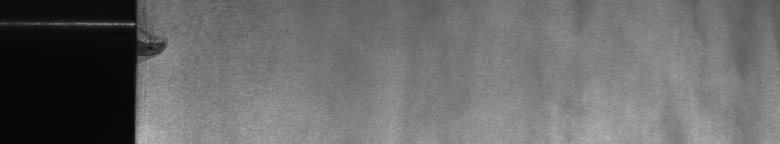hb: (148, 32, 172, 64)
